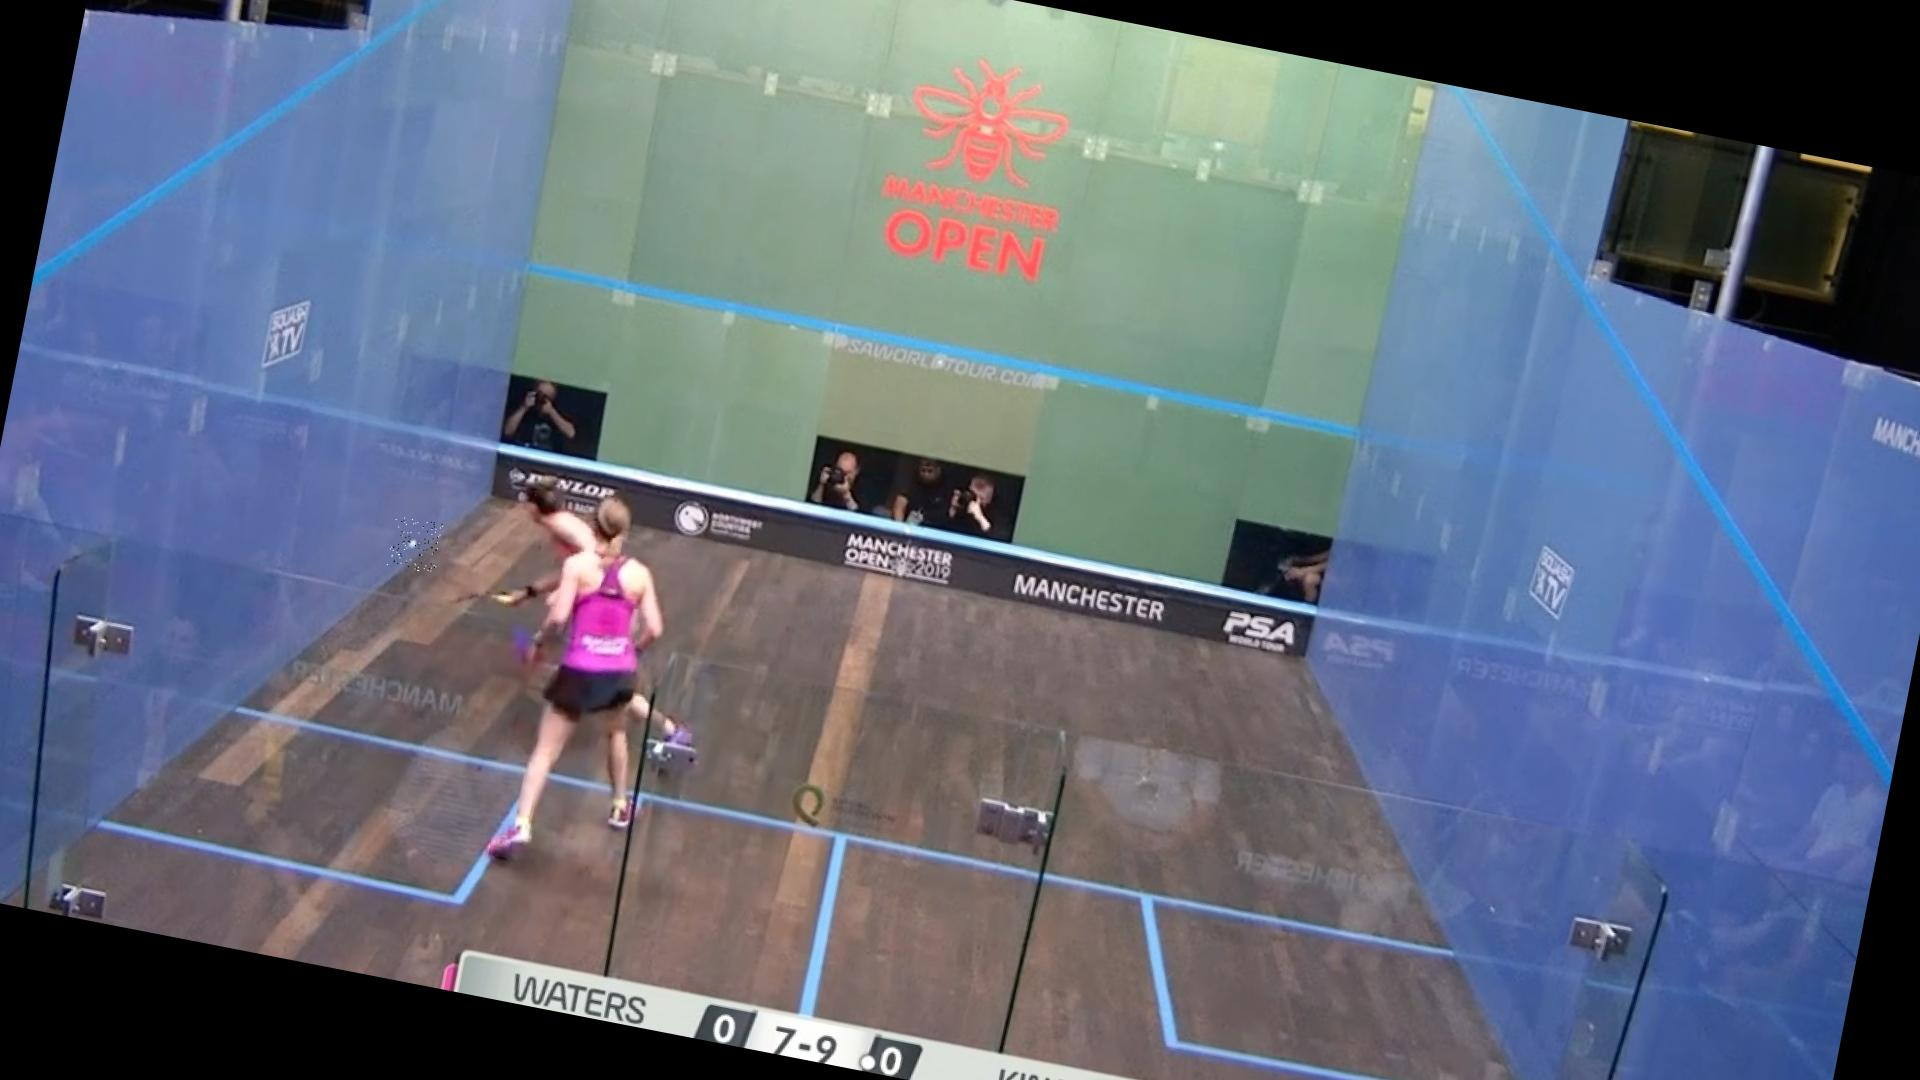Squash-Ball: (386, 514, 444, 574)
